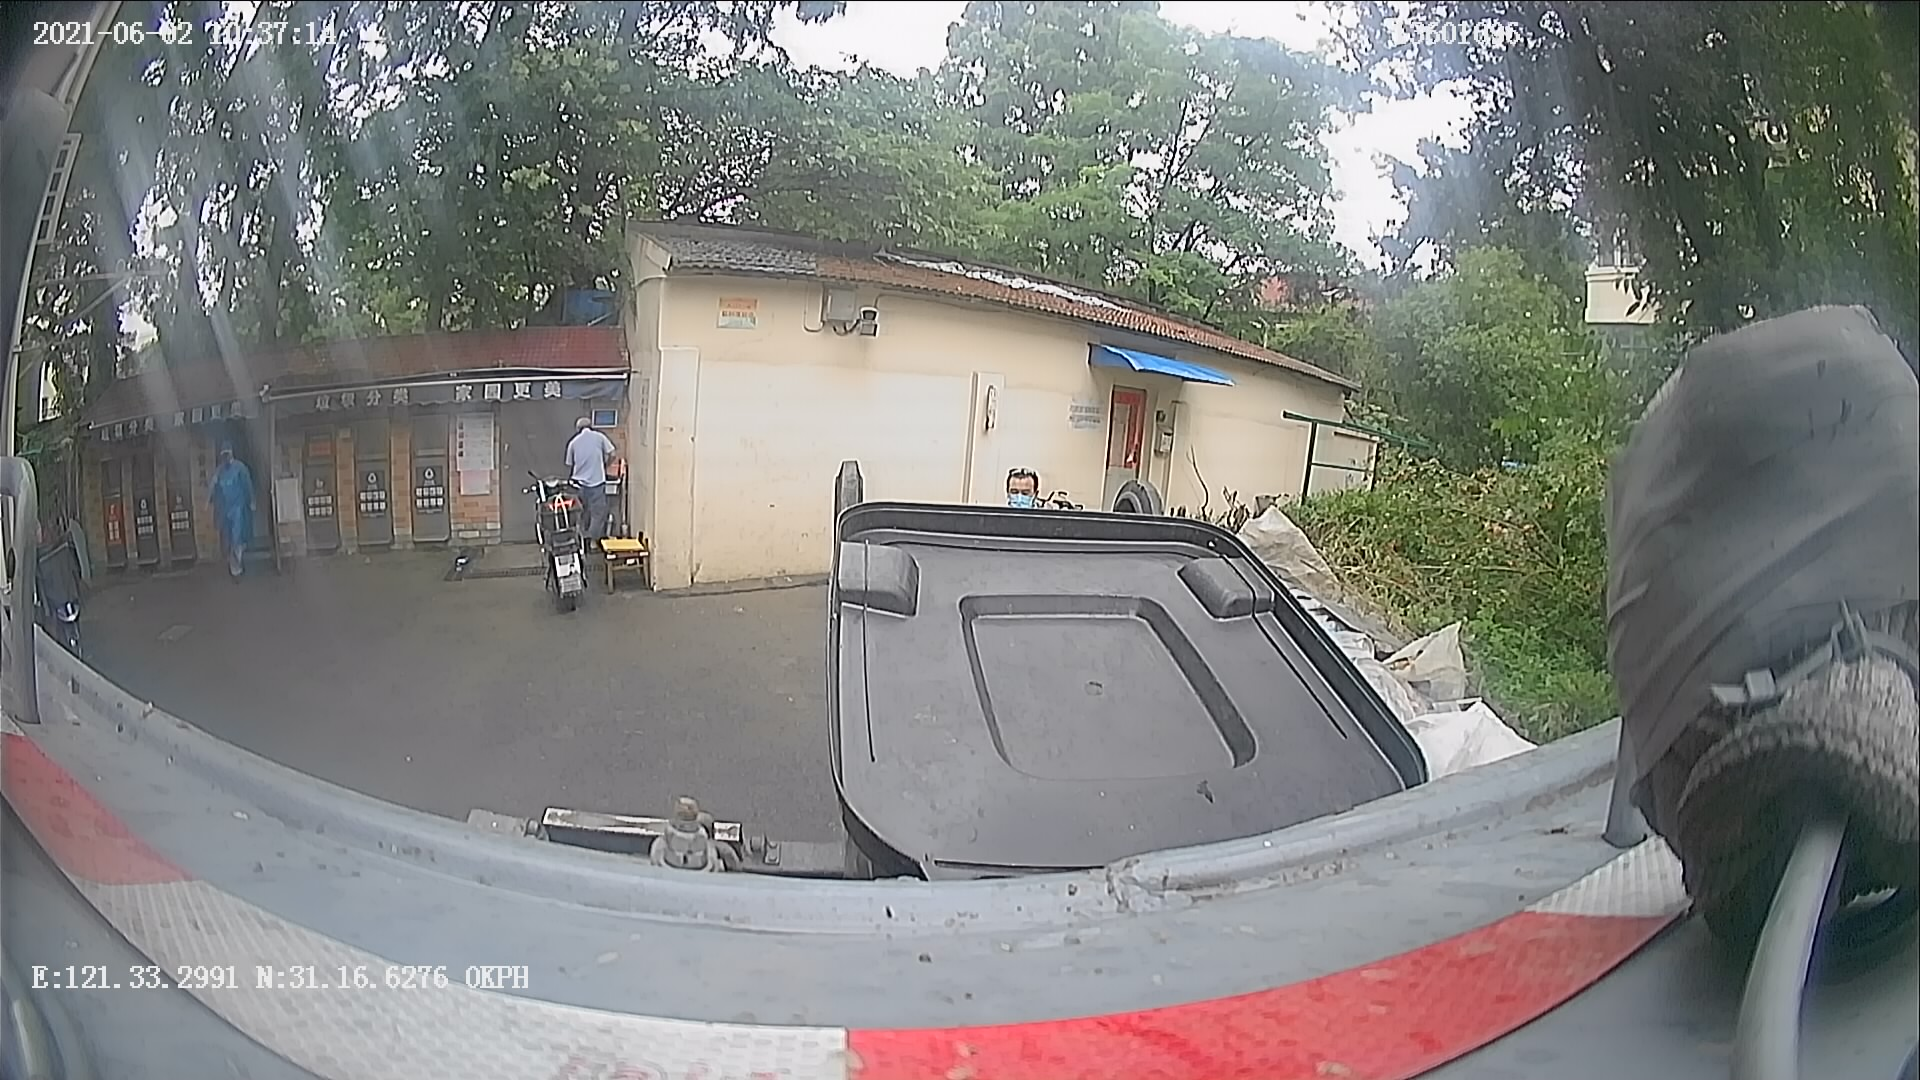Dry_garbage: (791, 444, 1284, 1079)
